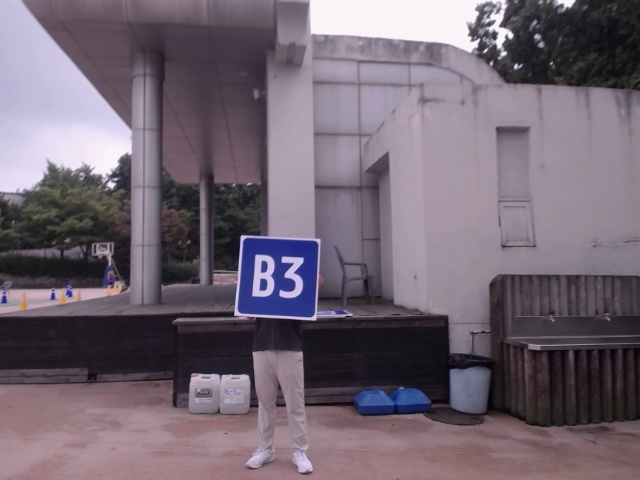delivery_b3: (236, 234, 318, 320)
